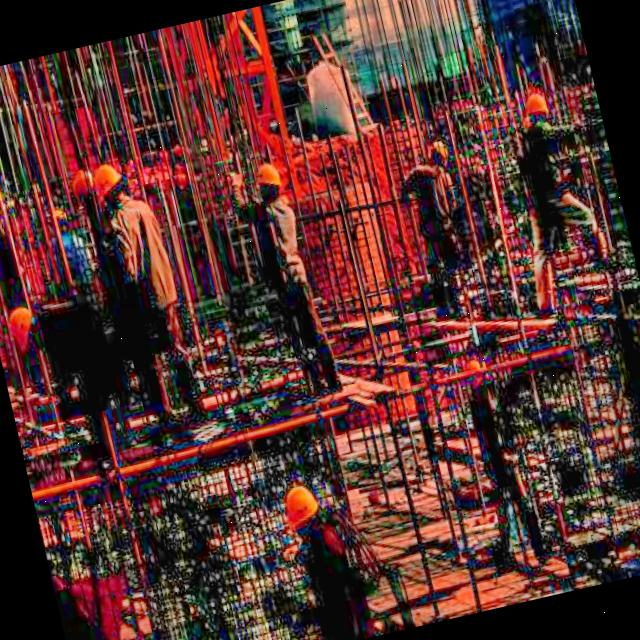helmet: (278, 478, 325, 544), (91, 157, 132, 224), (2, 299, 47, 358), (250, 157, 290, 210), (522, 86, 556, 138), (422, 134, 453, 179), (463, 352, 496, 394), (0, 177, 9, 232)
